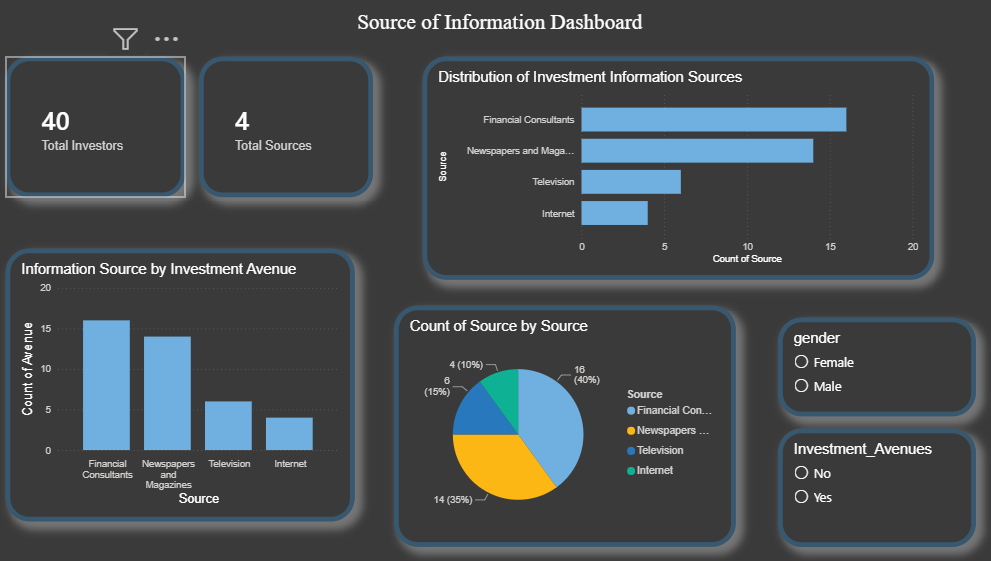

This screenshot's page, from the dashboard's own definition file:
{"tool":"powerbi","page":{"name":"Task 6","canvas":[1280,720],"ordinal":5},"visuals":[{"type":"textbox","box":[415.8,13.2,447.9,90.7],"z":0},{"type":"cardVisual","fields":{"Data":["Data_set 2.Total Investors"]},"box":[17,77.5,226.8,177.6],"z":1000},{"type":"cardVisual","fields":{"Data":["Data_set 2.Total Sources"]},"box":[260.8,77.5,219.2,177.6],"z":2000},{"type":"clusteredBarChart","title":"Distribution of Investment Information Sources","fields":{"Category":["Data_set 2.Source"],"Y":["CountNonNull(Data_set 2.Source)"]},"box":[542.4,77.5,644.4,281.6],"z":3000},{"type":"columnChart","title":"Information Source by Investment Avenue","fields":{"Category":["Data_set 2.Source"],"Y":["CountNonNull(Data_set 2.Avenue)"]},"box":[17,319.4,440.3,343.9],"z":4000},{"type":"pieChart","fields":{"Category":["Data_set 2.Source"],"Y":["CountNonNull(Data_set 2.Source)"]},"box":[506.5,391.2,430.9,304.3],"z":5000},{"type":"listSlicer","fields":{"Values":["Data_set 2.gender"]},"box":[990.2,406.3,249.5,124.7],"z":6000},{"type":"listSlicer","fields":{"Values":["Data_set 2.Investment_Avenues"]},"box":[990.2,546.1,249.5,149.3],"z":7000}]}

Visuals, with their boxes in screenshot pixels (x1, y1, x2, y2), scaled from the page's 1280x720 canvas onto the 991x561 screenshot:
textbox: (x1=322, y1=10, x2=669, y2=81)
cardVisual - Data_set 2.Total Investors: (x1=13, y1=60, x2=189, y2=199)
cardVisual - Data_set 2.Total Sources: (x1=202, y1=60, x2=372, y2=199)
"Distribution of Investment Information Sources" clusteredBarChart: (x1=420, y1=60, x2=919, y2=280)
"Information Source by Investment Avenue" columnChart: (x1=13, y1=249, x2=354, y2=517)
pieChart - Data_set 2.Source x CountNonNull(Data_set 2.Source): (x1=392, y1=305, x2=726, y2=542)
listSlicer - Data_set 2.gender: (x1=767, y1=317, x2=960, y2=414)
listSlicer - Data_set 2.Investment_Avenues: (x1=767, y1=426, x2=960, y2=542)
